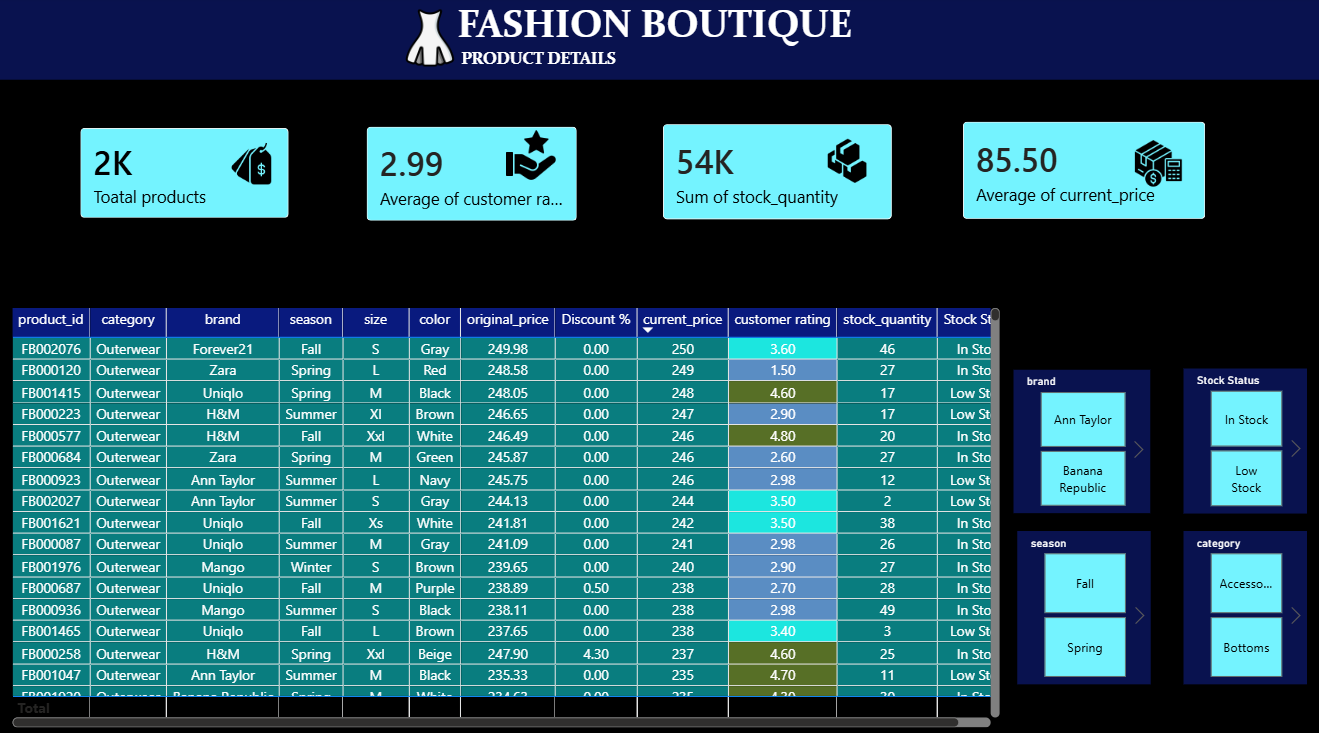

Layout of this report page (visuals, bound fields, positions):
{"tool":"powerbi","page":{"name":"PRODECT DETAILS","canvas":[1280,720],"ordinal":4},"visuals":[{"type":"textbox","box":[0,0,1280.3,81],"z":0},{"type":"image","box":[377.4,12.3,82.3,56.3],"z":1000},{"type":"tableEx","fields":{"Values":["Fashion_boutique.product_id","Fashion_boutique.category","Fashion_boutique.brand","Fashion_boutique.season","Fashion_boutique.size","Fashion_boutique.color","Fashion_boutique.original_price","Fashion_boutique.Discount %","Fashion_boutique.current_price","Fashion_boutique.customer rating","Fashion_boutique.stock_quantity","Fashion_boutique.Stock Status"]},"box":[0,285.4,983.9,435],"z":2000},{"type":"cardVisual","fields":{"Data":["Fashion_boutique.Toatal product"]},"box":[54.9,100.2,255.2,141.3],"z":3000},{"type":"cardVisual","fields":{"Data":["Avg(Fashion_boutique.customer rating)"]},"box":[330.7,98.8,258,145.5],"z":4000},{"type":"cardVisual","fields":{"Data":["Avg(Fashion_boutique.current_price)"]},"box":[905.7,94.7,288.2,148.2],"z":5000},{"type":"cardVisual","fields":{"Data":["Sum(Fashion_boutique.stock_quantity)"]},"box":[616.1,96.1,275.8,146.8],"z":6000},{"type":"slicer","fields":{"Values":["Fashion_boutique.brand"]},"box":[982.5,360.9,131.7,138.6],"z":7000},{"type":"slicer","fields":{"Values":["Fashion_boutique.category"]},"box":[1145.8,516,119.4,148.2],"z":8000},{"type":"slicer","fields":{"Values":["Fashion_boutique.season"]},"box":[985.3,516,129,148.2],"z":9000},{"type":"slicer","fields":{"Values":["Fashion_boutique.Stock Status"]},"box":[1145.8,359.5,119.4,140],"z":10000},{"type":"image","box":[1097.8,130.4,48,63.1],"z":10001},{"type":"image","box":[492.6,123.5,48,60.4],"z":10002},{"type":"image","box":[216.8,140,60.4,43.9],"z":10003},{"type":"image","box":[791.8,135.8,60.4,45.3],"z":10004}]}

Visuals, with their boxes in screenshot pixels (x1, y1, x2, y2), scaled from the page's 1280x720 canvas onto the 1319x733 screenshot:
textbox: (0,0,1318,82)
image: (389,13,474,70)
tableEx - Fashion_boutique.product_id x Fashion_boutique.category: (0,291,1014,732)
cardVisual - Fashion_boutique.Toatal product: (57,102,320,246)
cardVisual - Avg(Fashion_boutique.customer rating): (341,101,607,249)
cardVisual - Avg(Fashion_boutique.current_price): (933,96,1230,247)
cardVisual - Sum(Fashion_boutique.stock_quantity): (635,98,919,247)
slicer - Fashion_boutique.brand: (1012,367,1148,509)
slicer - Fashion_boutique.category: (1181,525,1304,676)
slicer - Fashion_boutique.season: (1015,525,1148,676)
slicer - Fashion_boutique.Stock Status: (1181,366,1304,509)
image: (1131,133,1181,197)
image: (508,126,557,187)
image: (223,143,286,187)
image: (816,138,878,184)
